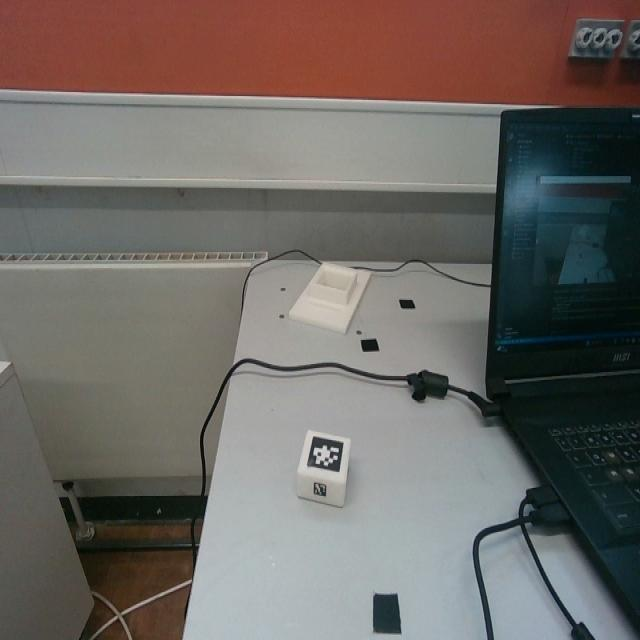Cube: (296, 426, 351, 506)
